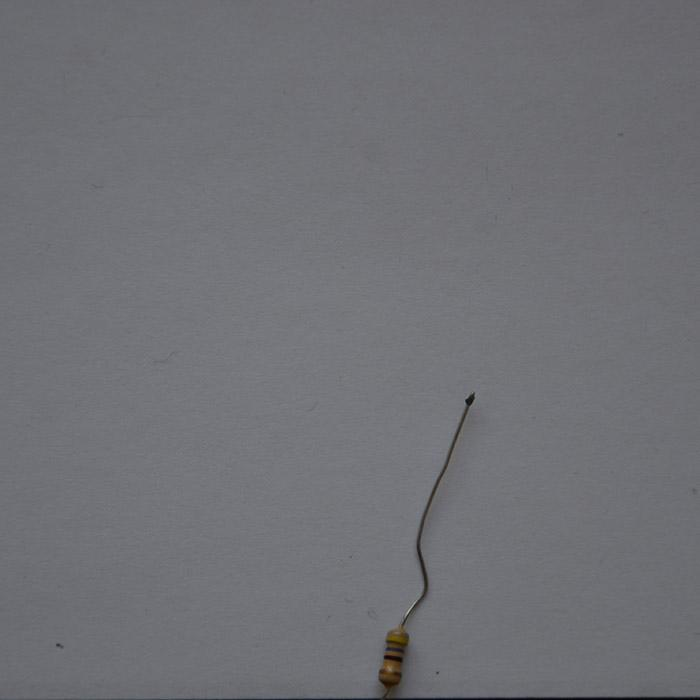resistor: (377, 624, 408, 690)
